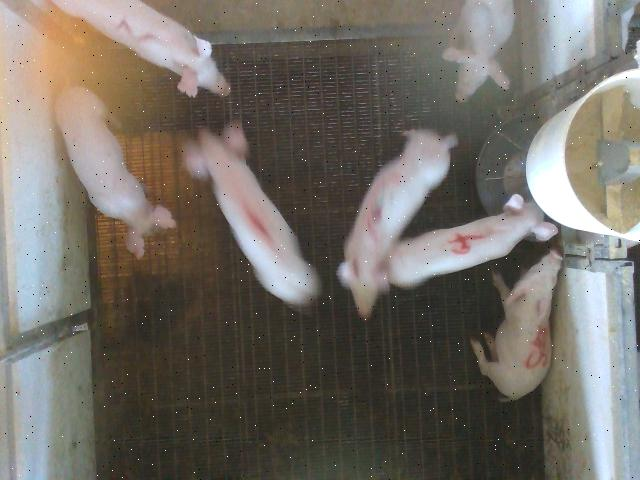pig-1: (185, 123, 319, 305)
pig-2: (54, 2, 230, 96)
pig-3: (338, 130, 456, 319)
pig-4: (389, 195, 558, 288)
pig-5: (470, 250, 562, 401)
